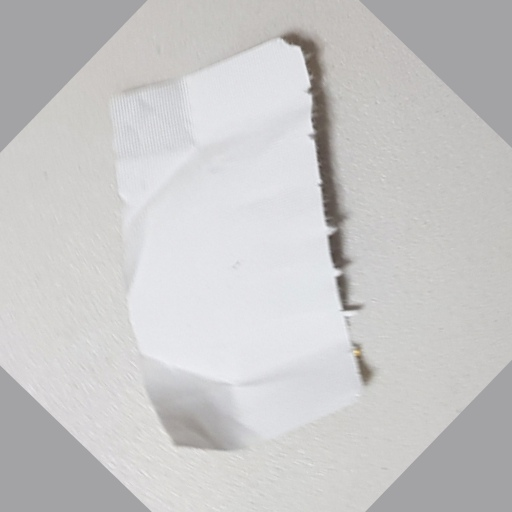Paper_3: (99, 33, 402, 470)
